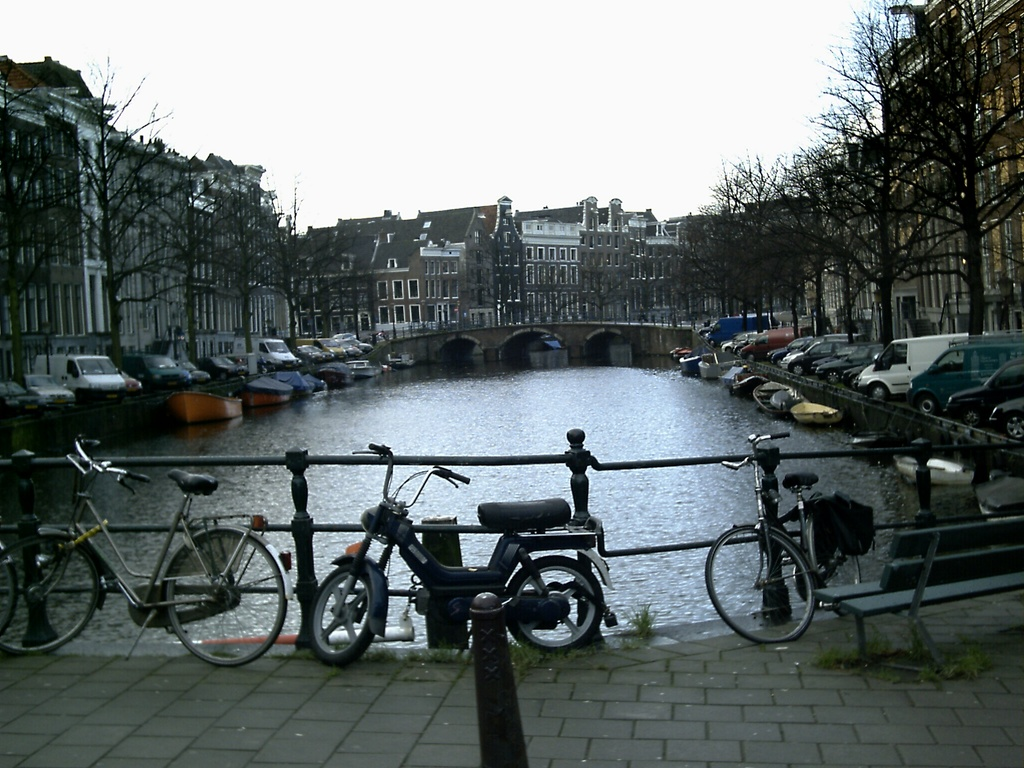Car: (854, 330, 1022, 414), (943, 359, 1022, 424), (824, 345, 883, 386), (992, 405, 1023, 440)
